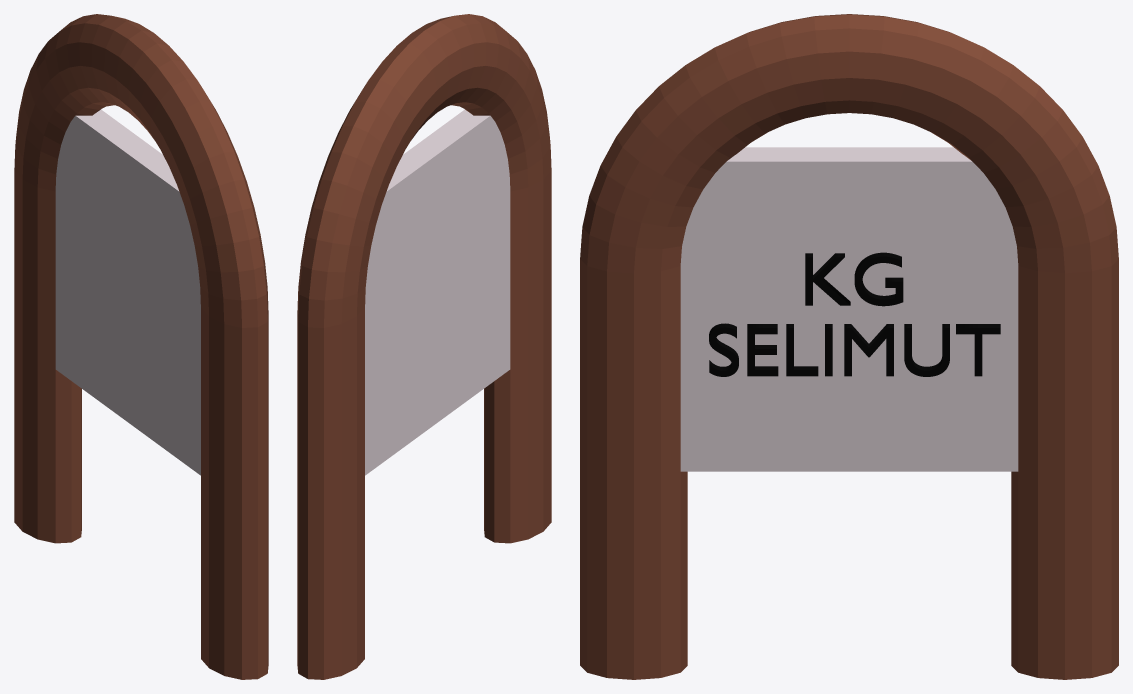
The model's file is sign2.fbx.
3 views of the same model, side by side, from view 1: azimuth 30°, elevation 25°; view 2: azimuth 150°, elevation 25°; view 3: azimuth 270°, elevation 25° (orthographic). The views are drawn at different scales.
Parts seen in each view (by area): view 1: Torus.001; view 2: Torus.001; view 3: Torus.001, Text.001.
Boxes of the visible parts, x1=… form: Torus.001: x1=14, y1=14, x2=268, y2=679; Torus.001: x1=297, y1=14, x2=551, y2=679; Torus.001: x1=580, y1=14, x2=1118, y2=679; Text.001: x1=709, y1=252, x2=1000, y2=376.
Bounding box in the file's own units: 151 × 1431 × 1074.
